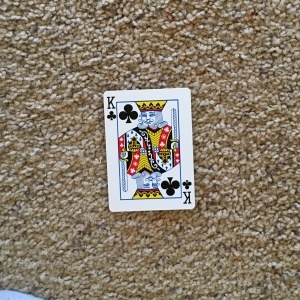card: (103, 88, 197, 212)
